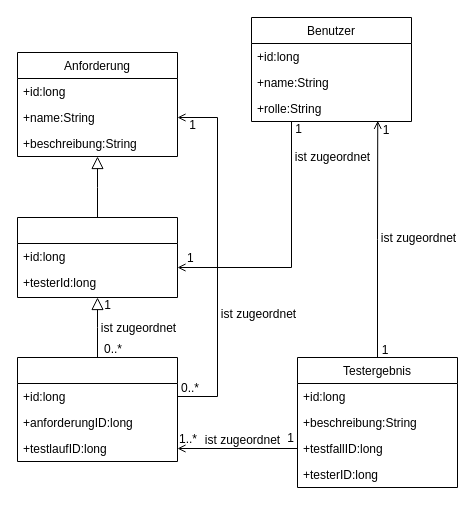
Image size: 475x508. Some labels were removed from this diagram. The box of each missing label's shape, as (x1, y1, x2, y2) in pixels:
Testfall: (16, 356, 178, 462)
Testlauf: (16, 216, 178, 298)
